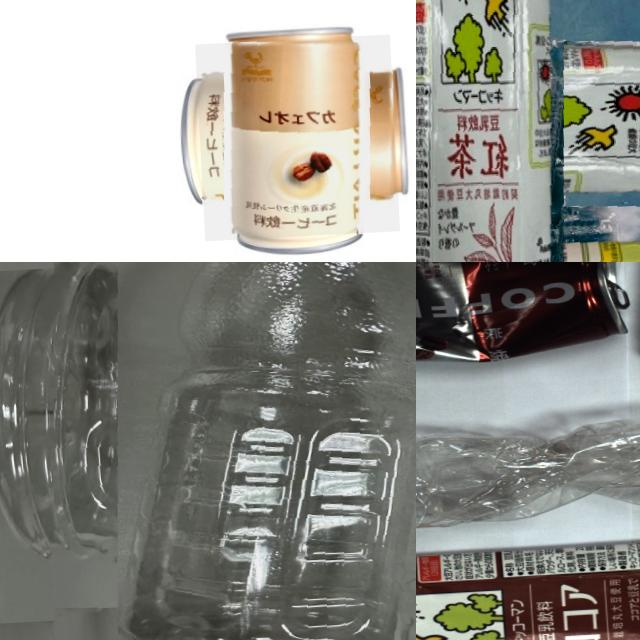Aluminium Foil: (416, 0, 640, 262), (416, 527, 640, 640)
Can: (194, 35, 399, 242), (416, 262, 631, 375)
Transparent Plastic Bottle: (34, 262, 416, 640), (416, 390, 640, 537)
